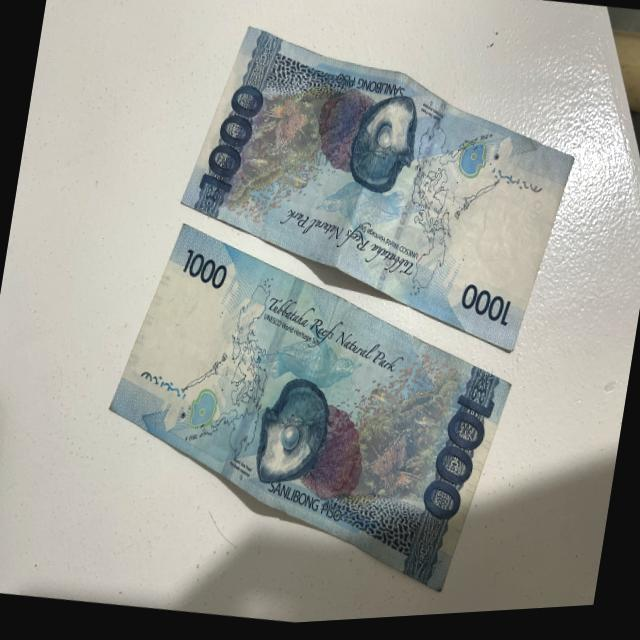1000_pearl: (254, 379, 336, 490), (344, 89, 420, 200)
1000_pearl_watermark: (186, 384, 220, 437), (458, 134, 494, 184)
watermark: (454, 177, 554, 305)
